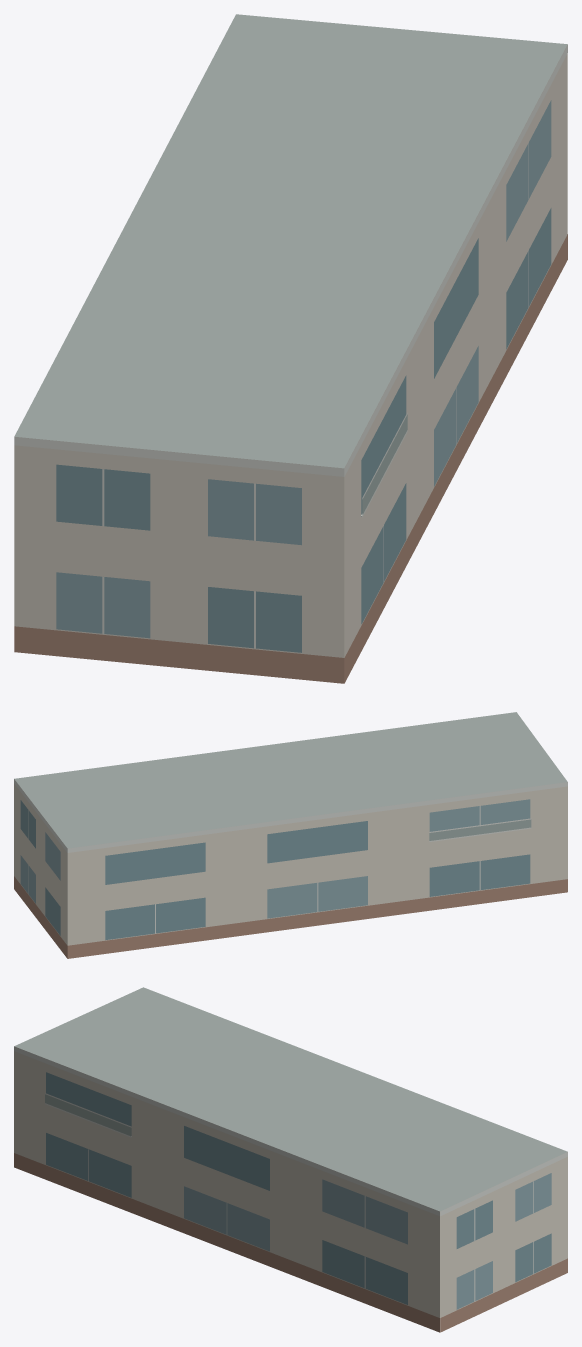
The model's file is survey-upis-32713182.glb.
The picture shows the model from 3 angles, top to bottom: view 1: azimuth 30°, elevation 25°; view 2: azimuth 150°, elevation 25°; view 3: azimuth 270°, elevation 25°; orthographic projection. The views are drawn at different scales.
Parts seen in each view (by area): view 1: survey-upis-32713182.tmp; view 2: survey-upis-32713182.tmp; view 3: survey-upis-32713182.tmp.
Boxes of the visible parts, bbox=[...] form: survey-upis-32713182.tmp: bbox=[14, 14, 567, 683]; survey-upis-32713182.tmp: bbox=[14, 712, 567, 958]; survey-upis-32713182.tmp: bbox=[14, 987, 567, 1332].
Bounding box in the file's own units: 24.24 × 6.1 × 25.29.
